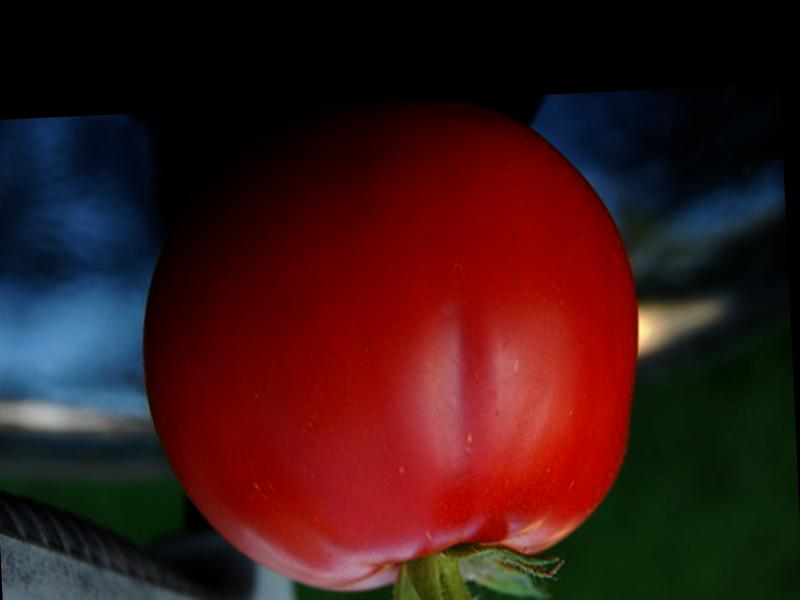Tomato: (131, 90, 650, 600)
